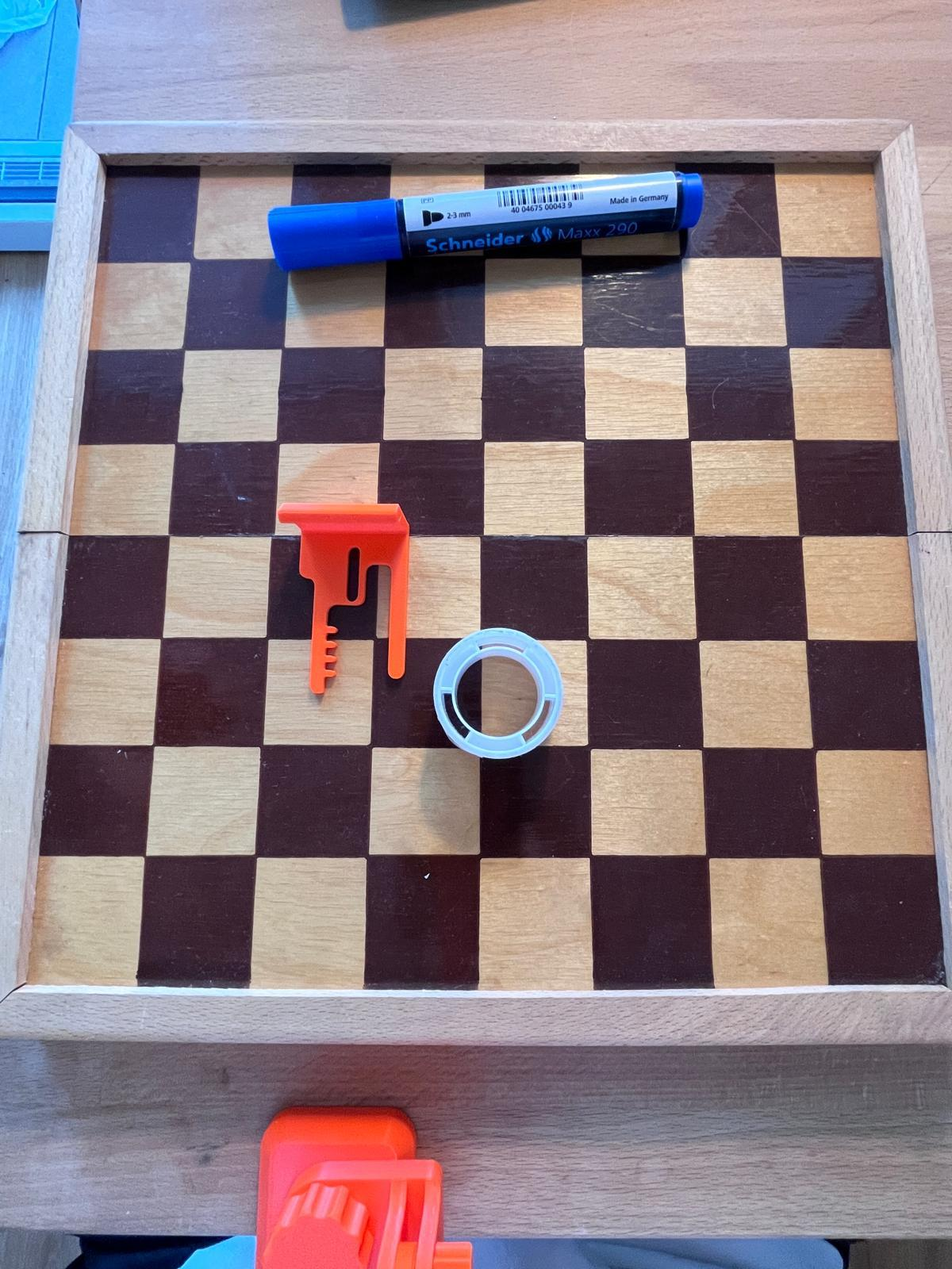clipper: (279, 504, 414, 707)
marker: (263, 168, 704, 276)
tape: (428, 625, 563, 766)
